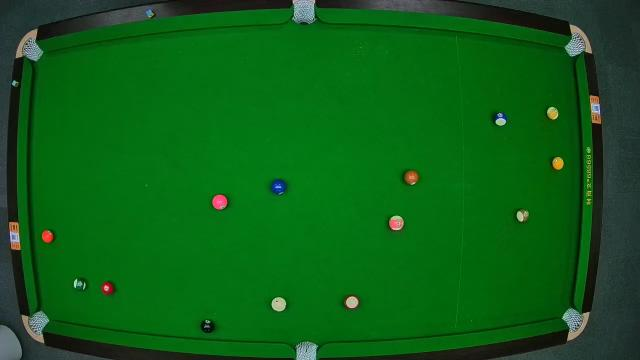bag1: (20, 40, 40, 61)
bag2: (293, 2, 317, 26)
bag3: (565, 34, 587, 57)
bag4: (30, 312, 48, 332)
bag5: (296, 340, 318, 360)
bag6: (562, 309, 584, 329)
ball0: (270, 298, 288, 312)
ball1: (554, 157, 564, 171)
ball10: (494, 111, 508, 127)
ball11: (344, 294, 360, 310)
ball12: (389, 214, 405, 232)
ball14: (73, 277, 87, 291)
ball15: (517, 208, 529, 222)
ball2: (270, 178, 286, 195)
ball3: (102, 282, 115, 295)
ball4: (212, 194, 228, 210)
ball5: (41, 229, 55, 243)
ball7: (404, 168, 420, 185)
ball8: (201, 320, 215, 332)
ball9: (548, 106, 560, 120)
